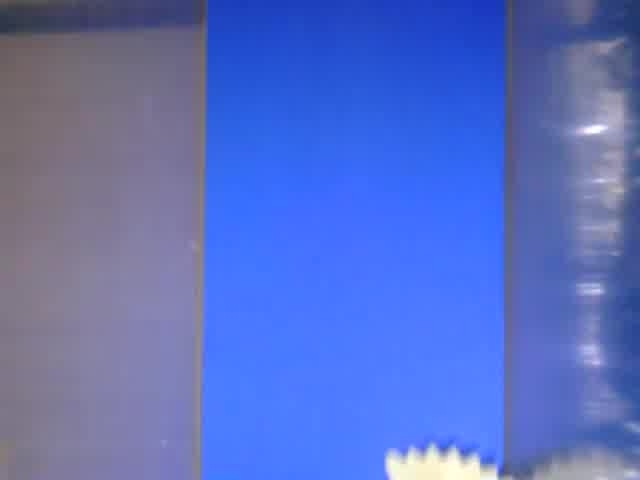farfalle: (384, 443, 503, 480)
